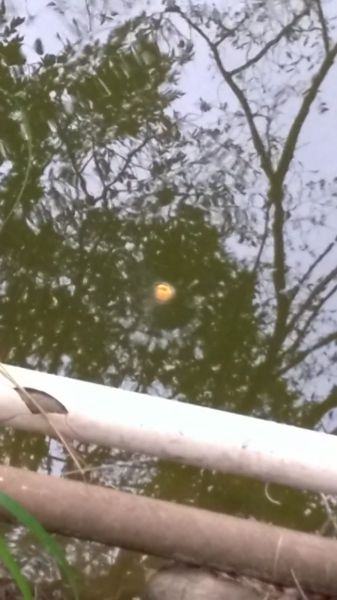eggs: (150, 275, 177, 309)
